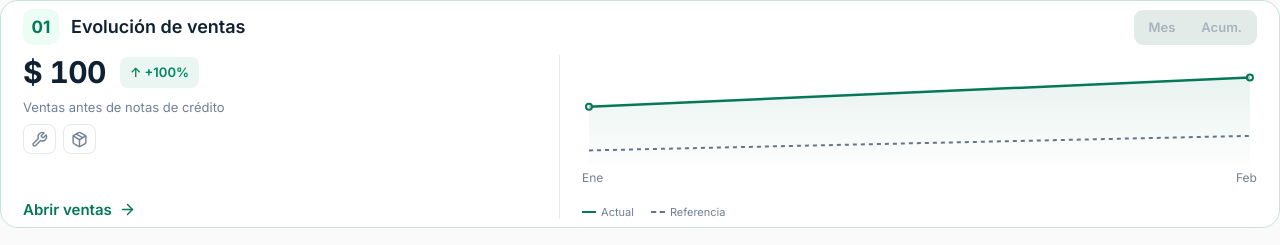
Scenario: Evolución de ventas scope controls › drops a selected area immediately when it is absent from the authorized story
The image size is (1280, 245).
Later steps or results of the test are not shown.
Click the button named "Filtrar ventas de servicios". click: point(40, 139)
box: [23,124,56,154]
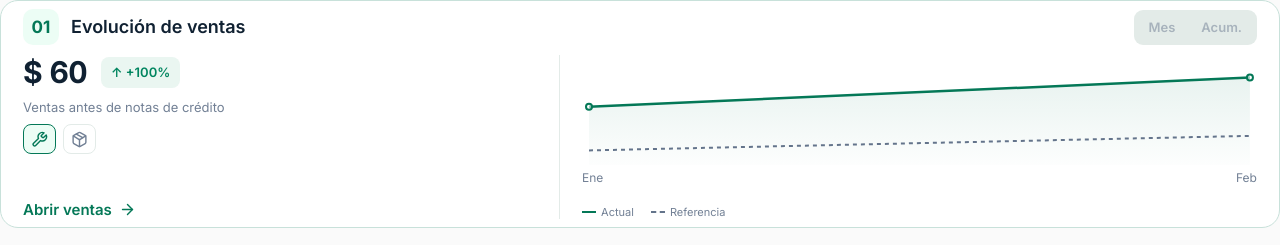
Expected: the text "$ 60" is shown, [23,55,87,90]
